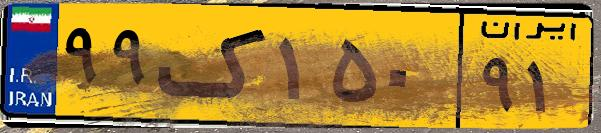0: (385, 28, 445, 110)
1: (270, 28, 330, 110), (525, 38, 570, 115)
5: (330, 28, 385, 110)
9: (57, 26, 110, 100), (475, 38, 525, 113), (110, 28, 158, 98)
ک: (158, 12, 270, 120)
